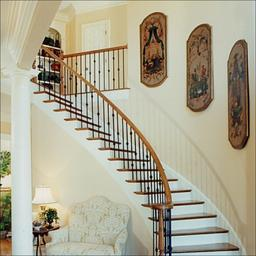Escaleras: (37, 45, 244, 255)
